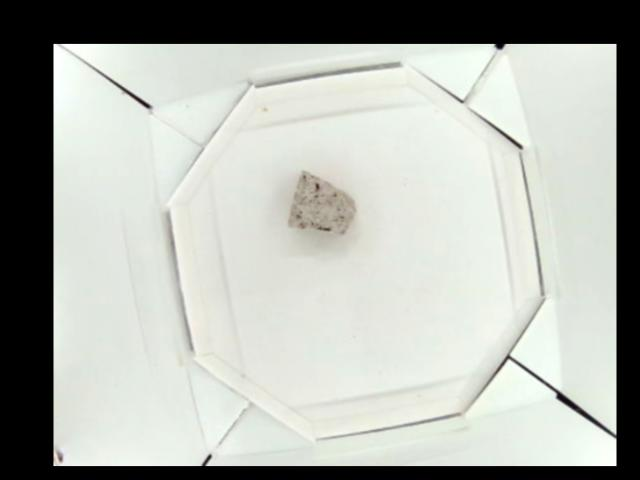China: (289, 169, 356, 233)
